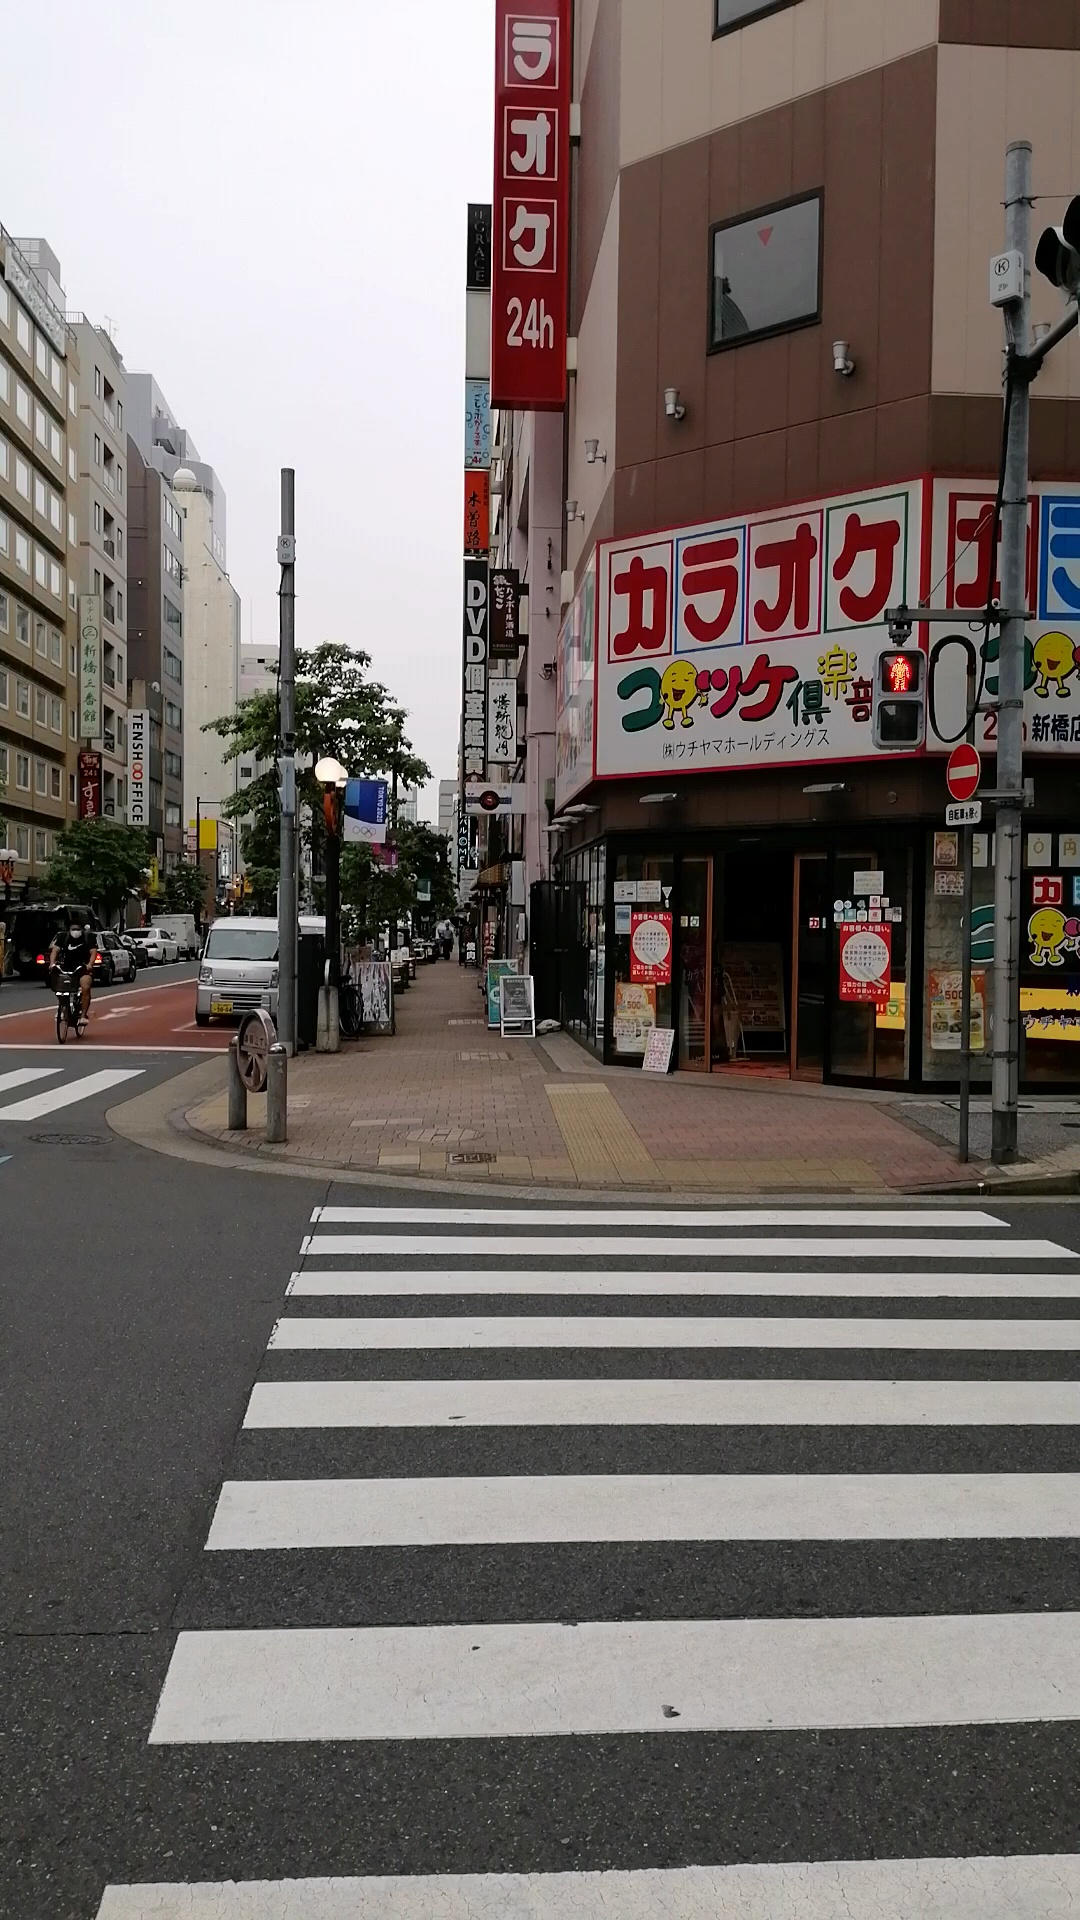red: (874, 650, 924, 748)
